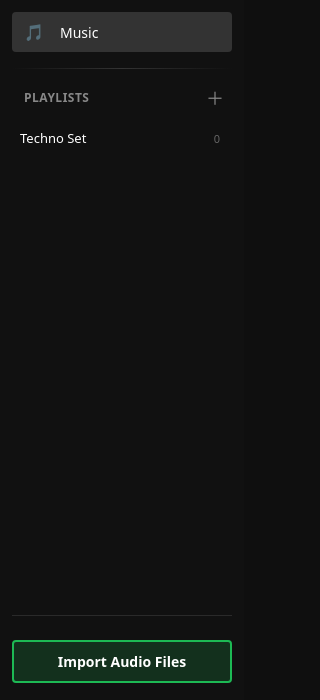
Test case: Sidebar › shows context menu on right-click of a playlist
Right-click the text "Techno Set" at (53, 138), box [20,129,86,147]
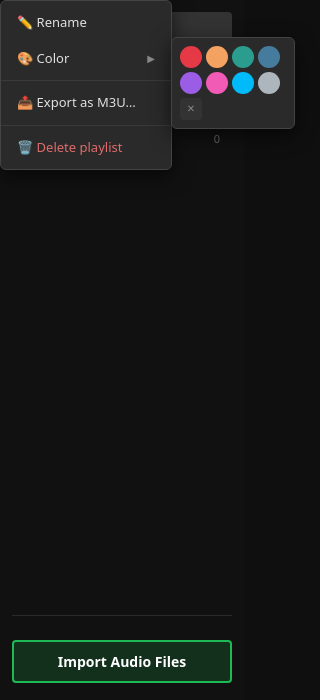
Check: the text "✏️ Rename" is shown, box [17,13,87,31]
Check: the text "📤 Export as M3U…" is shown, box [17,93,136,111]
Check: the text "🗑️ Delete playlist" is shown, box [17,138,122,156]
